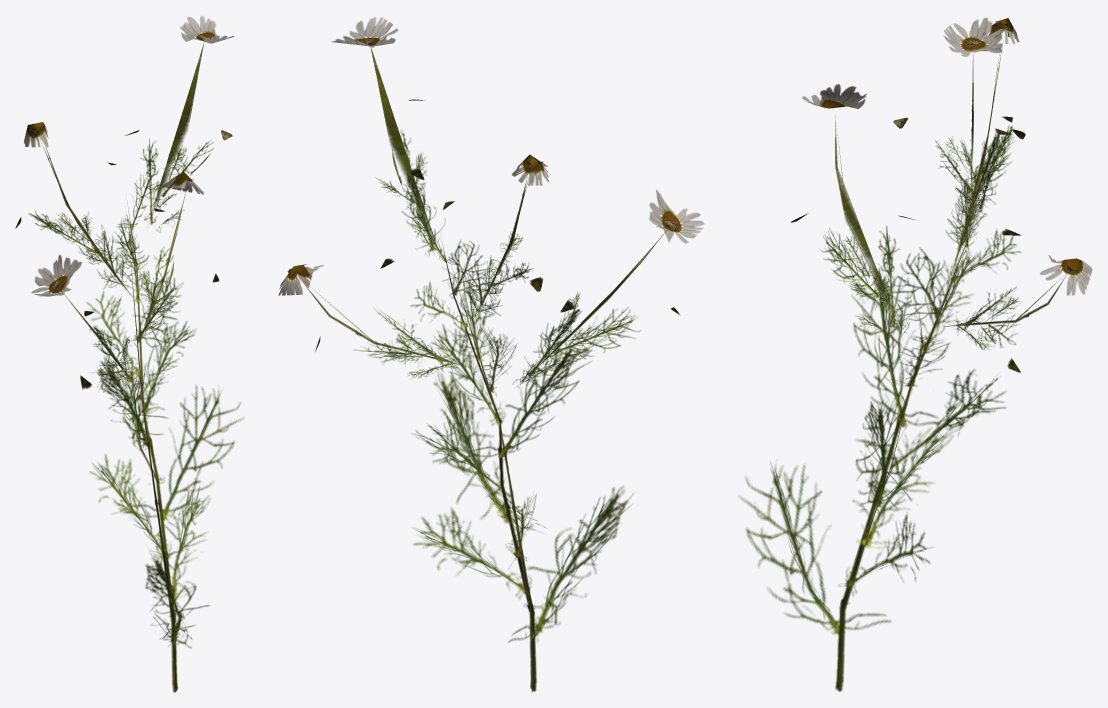
File: veg-14.glb
3 renders of one model, left to right at view 1: azimuth 30°, elevation 25°; view 2: azimuth 150°, elevation 25°; view 3: azimuth 270°, elevation 25°, orthographic. The views are drawn at different scales.
Visible parts, largest first — view 1: _inx2_VarE_LOD1_14; view 2: _inx2_VarE_LOD1_14; view 3: _inx2_VarE_LOD1_14.
Part boxes in pixels (<box>): _inx2_VarE_LOD1_14: <box>15,15,243,692</box>; _inx2_VarE_LOD1_14: <box>278,17,704,692</box>; _inx2_VarE_LOD1_14: <box>739,17,1092,691</box>.
Bounding box in the file's own units: 0.2287 × 0.4935 × 0.2234.
Materials: 1 (1 with a texture image).
